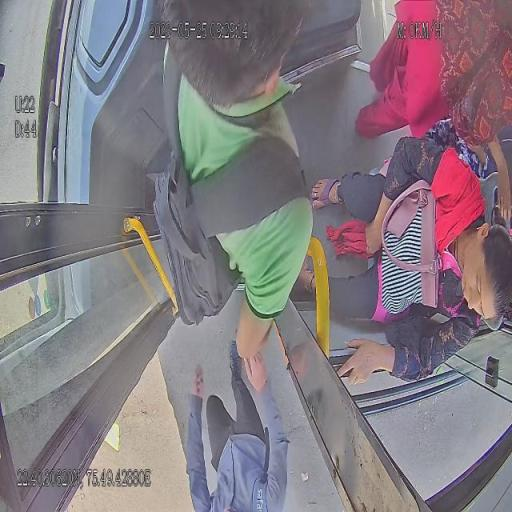persona: (151, 0, 319, 390), (296, 141, 511, 385), (359, 4, 512, 137), (185, 336, 290, 510)
